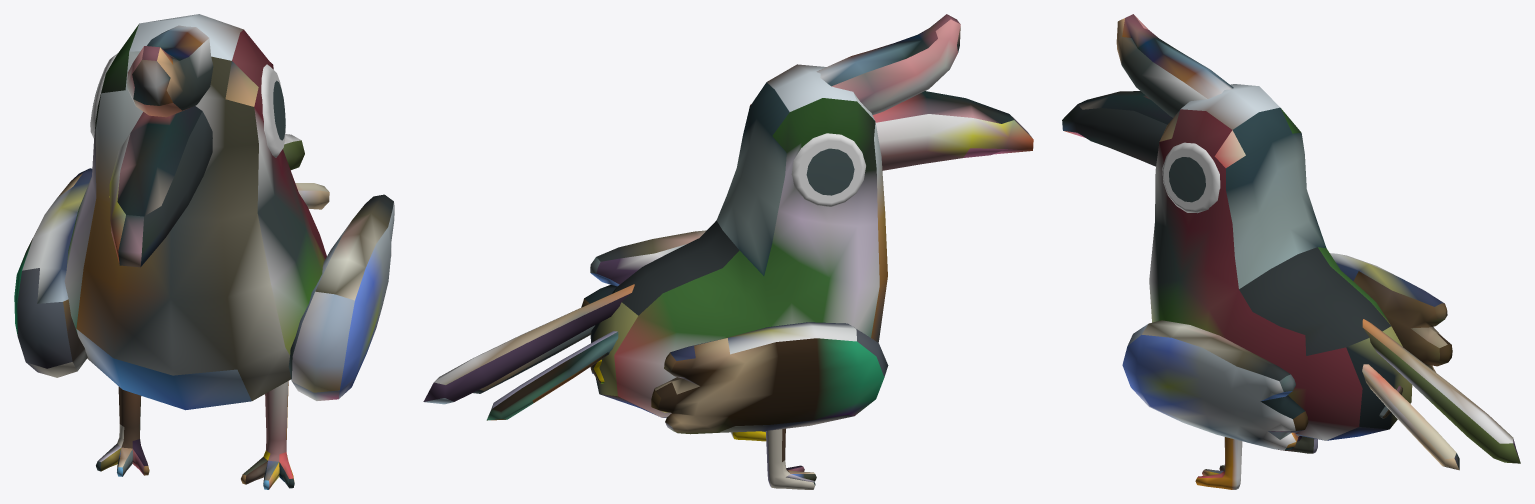
The model's file is Hornbill.glb.
3 renders of one model, left to right at view 1: azimuth 30°, elevation 25°; view 2: azimuth 150°, elevation 25°; view 3: azimuth 270°, elevation 25°, orthographic. The views are drawn at different scales.
Visible parts, largest first — view 1: 70; view 2: 70; view 3: 70.
Part boxes in pixels (x1=…): 70: x1=14, y1=14, x2=394, y2=489; 70: x1=423, y1=14, x2=1033, y2=489; 70: x1=1062, y1=14, x2=1520, y2=489.
Size of the model in its own units: 0.7357 by 0.7826 by 0.8148.
